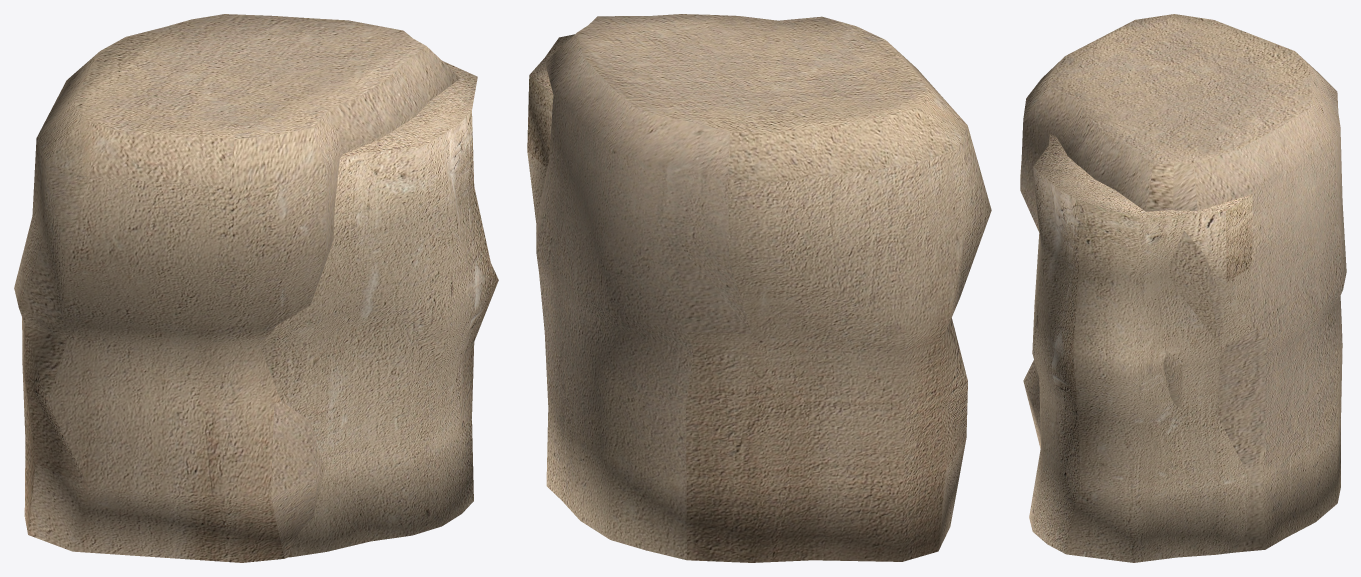
File: outside.glb
3 views of the same model, side by side, from view 1: azimuth 30°, elevation 25°; view 2: azimuth 150°, elevation 25°; view 3: azimuth 270°, elevation 25° (orthographic). The views are drawn at different scales.
Parts seen in each view (by area): view 1: clif_2_col, cliff_col; view 2: clif_2_col, cliff_col; view 3: clif_2_col, cliff_col.
Boxes of the visible parts, x1,y1,x2,y2 form: clif_2_col: (14, 14, 459, 562); cliff_col: (261, 61, 498, 557); clif_2_col: (536, 14, 991, 562); cliff_col: (527, 34, 574, 222); clif_2_col: (1020, 14, 1346, 552); cliff_col: (1029, 134, 1253, 562).
Bounding box in the file's own units: 6.24 × 5.92 × 4.49.
Materials: 2 (2 with a texture image).
